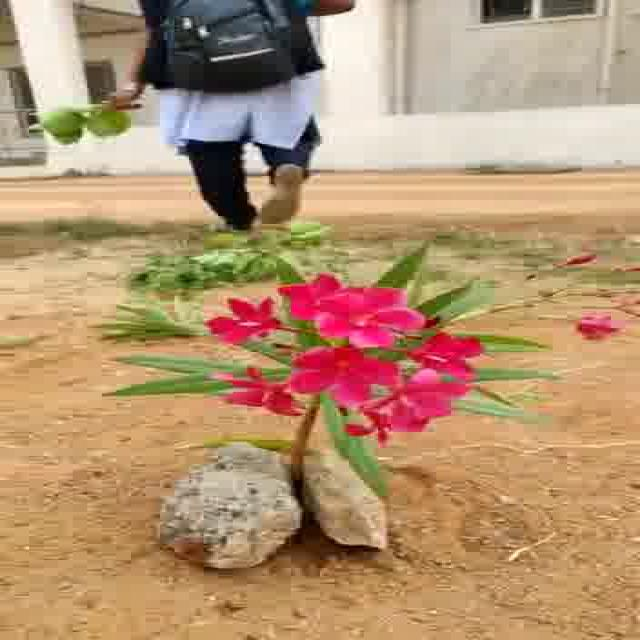Oleander: (138, 203, 566, 447)
